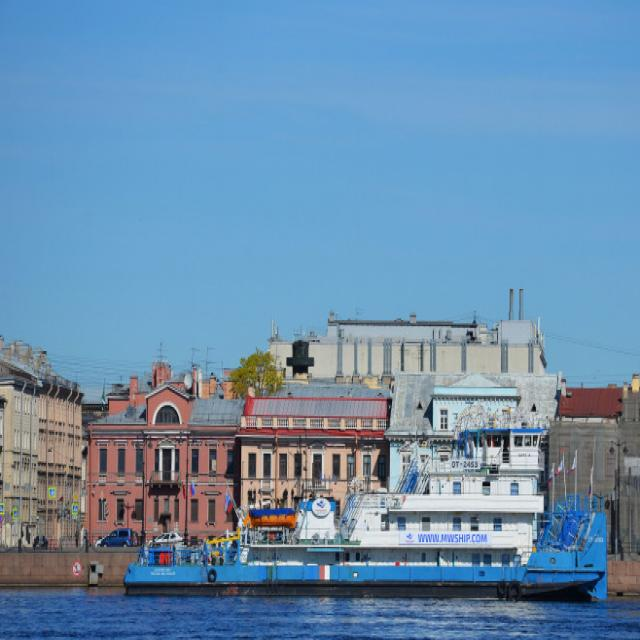tugboat: (119, 379, 618, 612)
